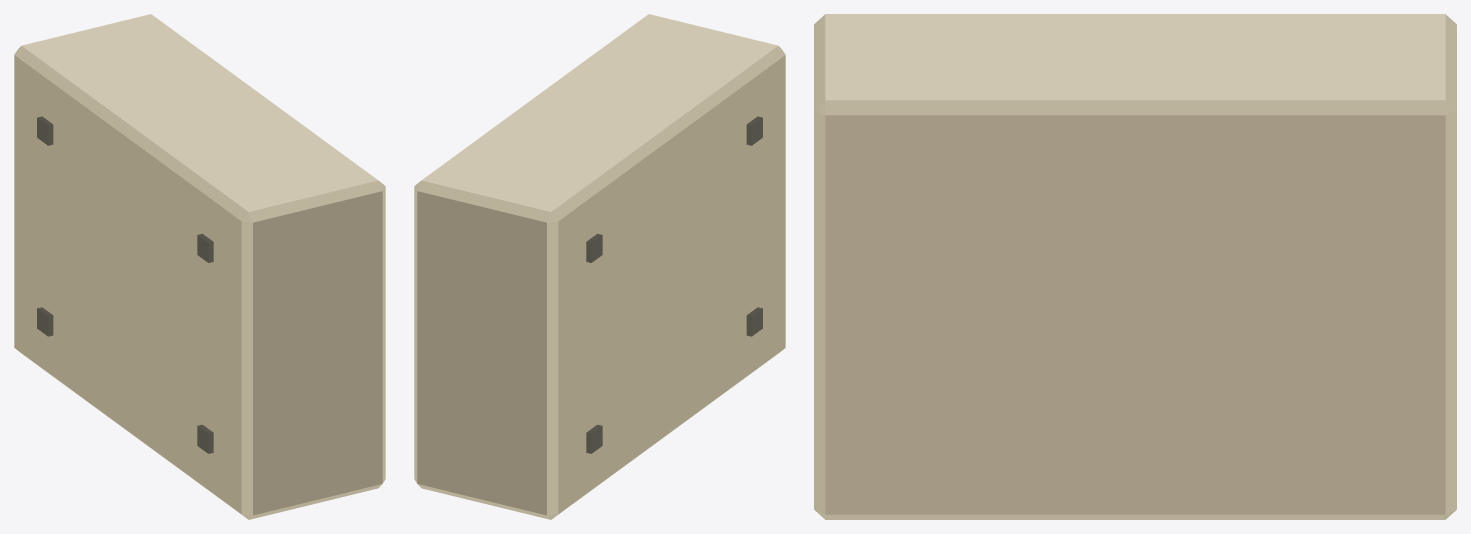
Rendered from ERA_L_HIGH_04.glb.
3 renders of one model, left to right at view 1: azimuth 30°, elevation 25°; view 2: azimuth 150°, elevation 25°; view 3: azimuth 270°, elevation 25°, orthographic. The views are drawn at different scales.
Parts seen in each view (by area): view 1: ERA_L_HIGH_04.001; view 2: ERA_L_HIGH_04.001; view 3: ERA_L_HIGH_04.001.
Part boxes in pixels (box(x1,y1,x2,y2)): ERA_L_HIGH_04.001: box(14, 14, 385, 519); ERA_L_HIGH_04.001: box(414, 14, 785, 519); ERA_L_HIGH_04.001: box(814, 14, 1456, 519).
Bounding box in the file's own units: 0.2485 × 0.49 × 0.68.
